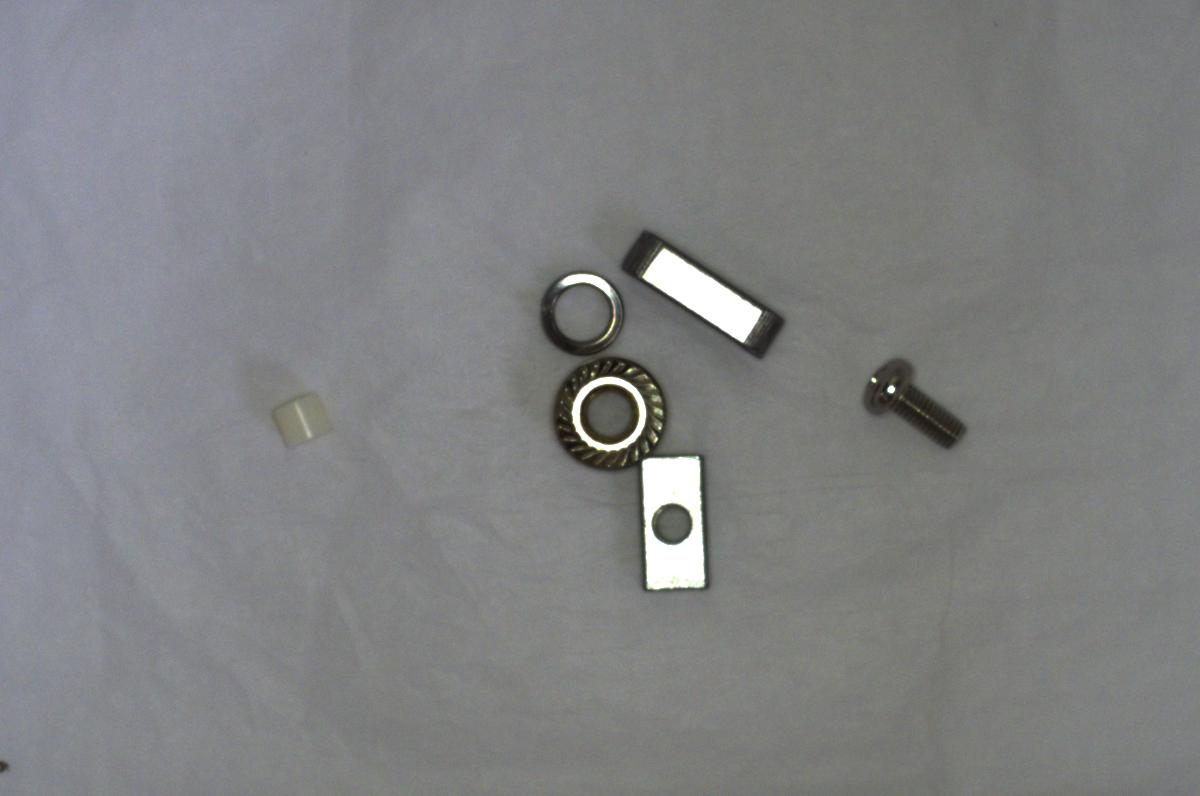Flange nut: (547, 355, 666, 474)
Keybar: (619, 229, 788, 366)
Plastic cushion pillar: (259, 381, 334, 452)
Rectangular nut: (628, 452, 717, 600)
Round head screw: (853, 352, 972, 452)
Spring washer: (533, 265, 633, 359)
